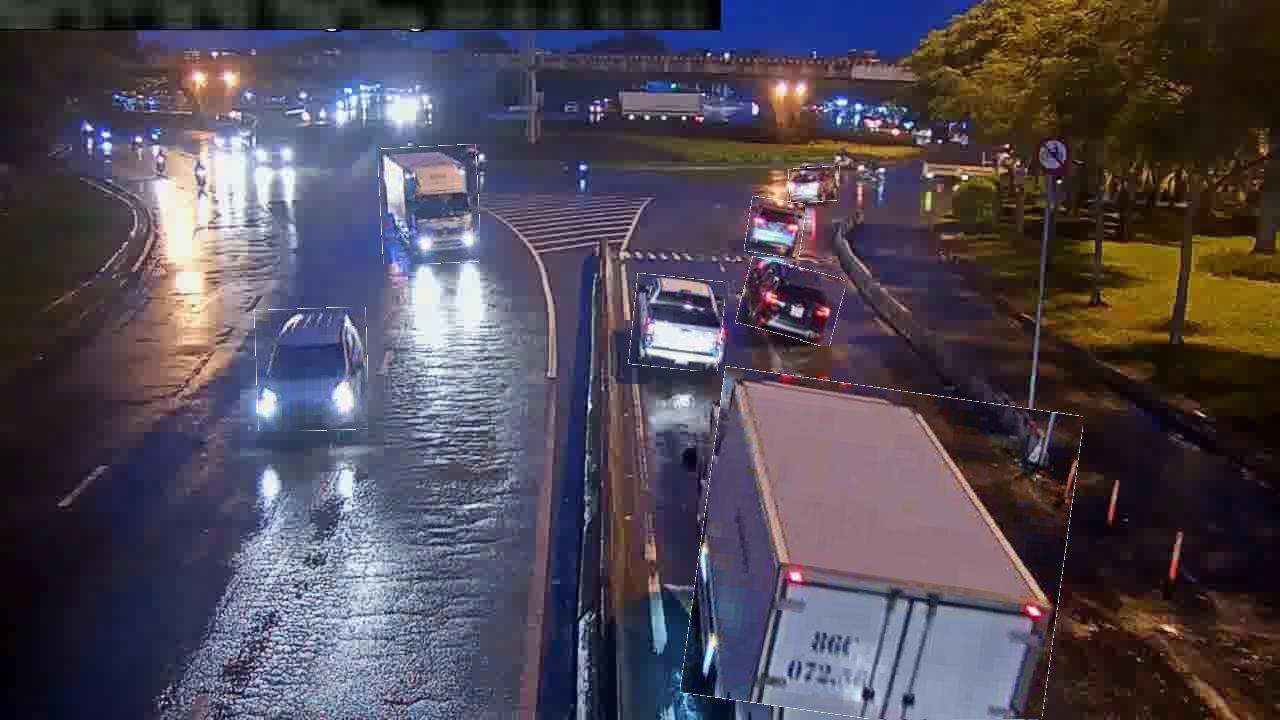8: (690, 378, 1074, 719), (380, 145, 480, 264)
container: (255, 308, 368, 432), (631, 275, 724, 370), (739, 262, 843, 342), (746, 198, 805, 257), (789, 167, 841, 203)
